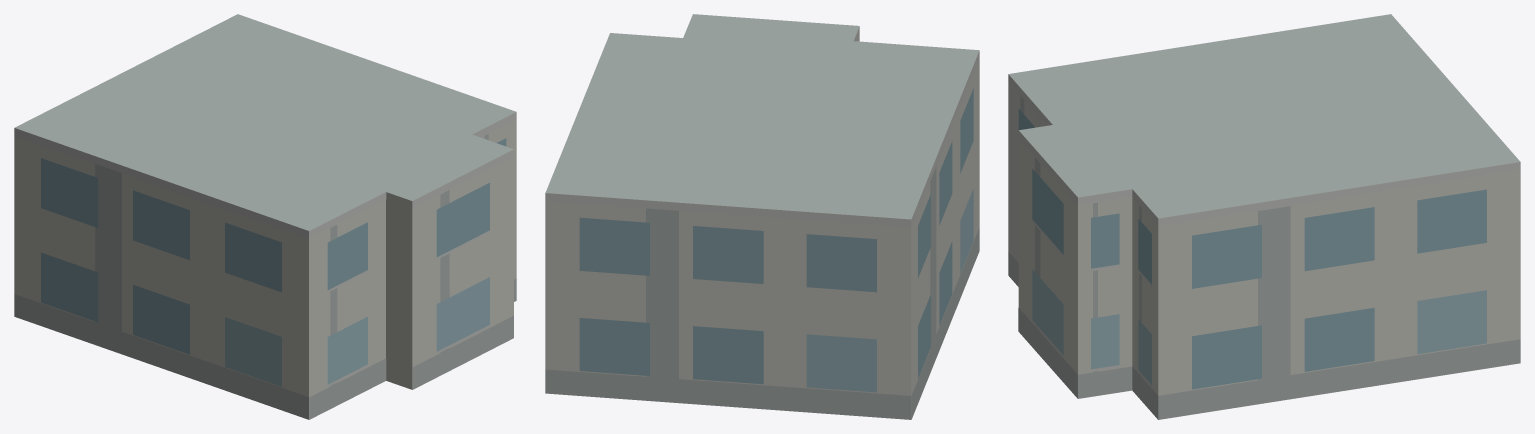
The model's file is residential-733375ac-5cae-4b33-b8b4-90bfc42fe9b2.glb.
The picture shows the model from 3 angles, left to right: view 1: azimuth 30°, elevation 25°; view 2: azimuth 150°, elevation 25°; view 3: azimuth 270°, elevation 25°; orthographic projection. The views are drawn at different scales.
Parts seen in each view (by area): view 1: residential-733375ac-5cae-4b33-b8b4-90bfc42fe9b2.tmp; view 2: residential-733375ac-5cae-4b33-b8b4-90bfc42fe9b2.tmp; view 3: residential-733375ac-5cae-4b33-b8b4-90bfc42fe9b2.tmp.
Part boxes in pixels (x1,y1,x2,y2): residential-733375ac-5cae-4b33-b8b4-90bfc42fe9b2.tmp: (14,14,516,419); residential-733375ac-5cae-4b33-b8b4-90bfc42fe9b2.tmp: (545,14,979,419); residential-733375ac-5cae-4b33-b8b4-90bfc42fe9b2.tmp: (1008,14,1520,419).
Bounding box in the file's own units: 13.08 × 6 × 13.85.
